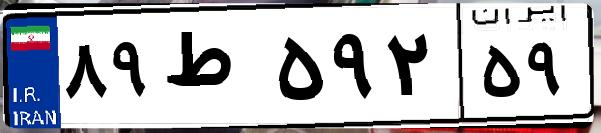2: (385, 28, 445, 110)
5: (270, 28, 330, 110), (475, 38, 525, 113)
8: (57, 26, 110, 100)
9: (330, 28, 385, 110), (525, 38, 570, 115), (110, 28, 158, 98)
ط: (158, 20, 270, 120)
